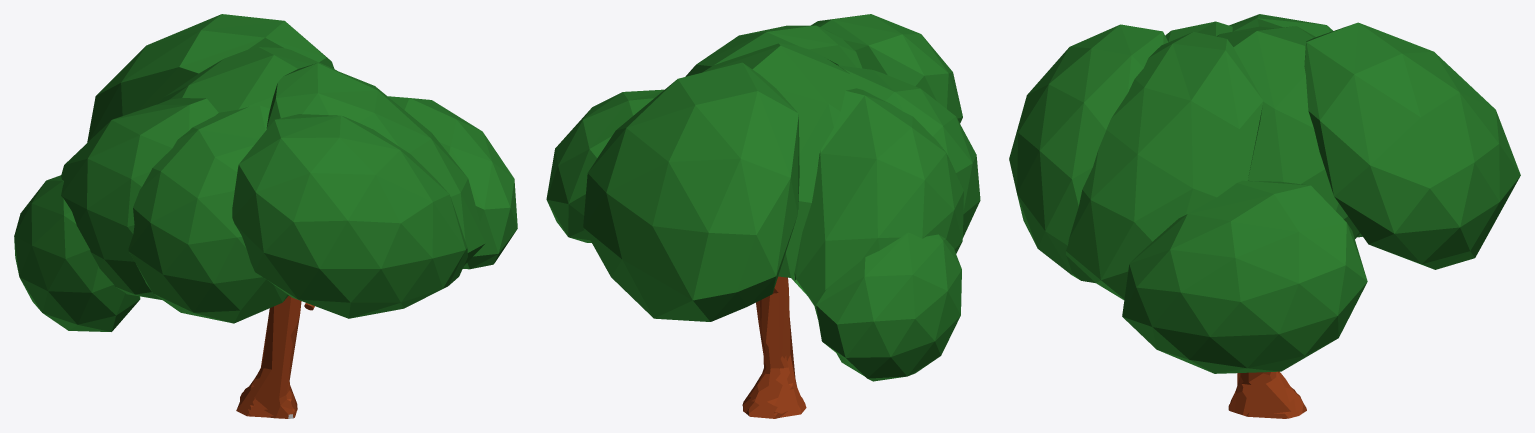
The model's file is Tree1.fbx.
3 views of the same model, side by side, from view 1: azimuth 30°, elevation 25°; view 2: azimuth 150°, elevation 25°; view 3: azimuth 270°, elevation 25° (orthographic). The views are drawn at different scales.
Parts seen in each view (by area): view 1: Tree.001; view 2: Tree.001; view 3: Tree.001.
Boxes of the visible parts, <box> form: Tree.001: <box>14,14,517,418</box>; Tree.001: <box>546,14,980,418</box>; Tree.001: <box>1009,14,1520,418</box>.
Size of the model in its own units: 663 by 533 by 658.
